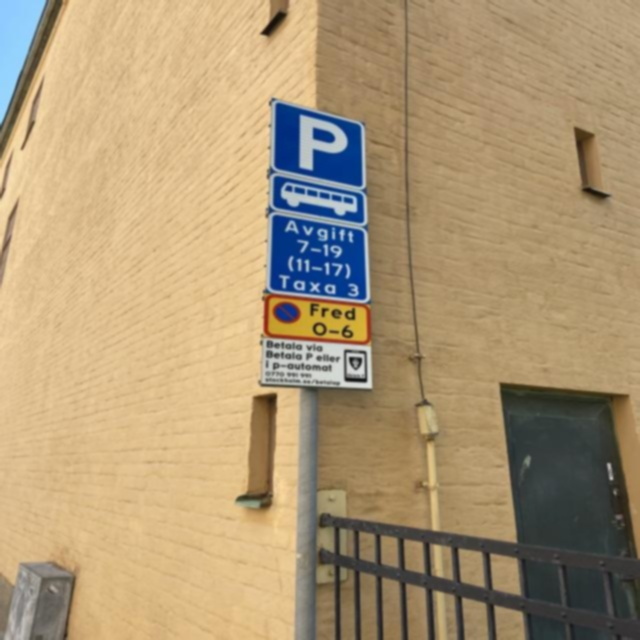P-skylt: (269, 98, 368, 191)
